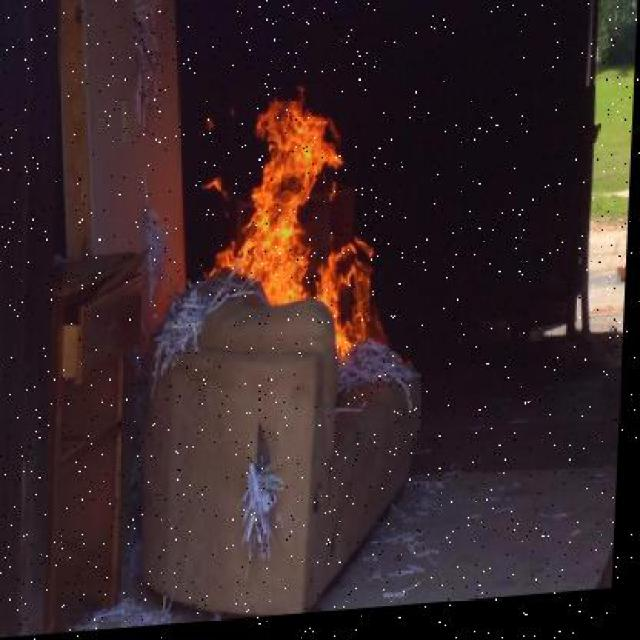fire: (204, 88, 384, 306)
